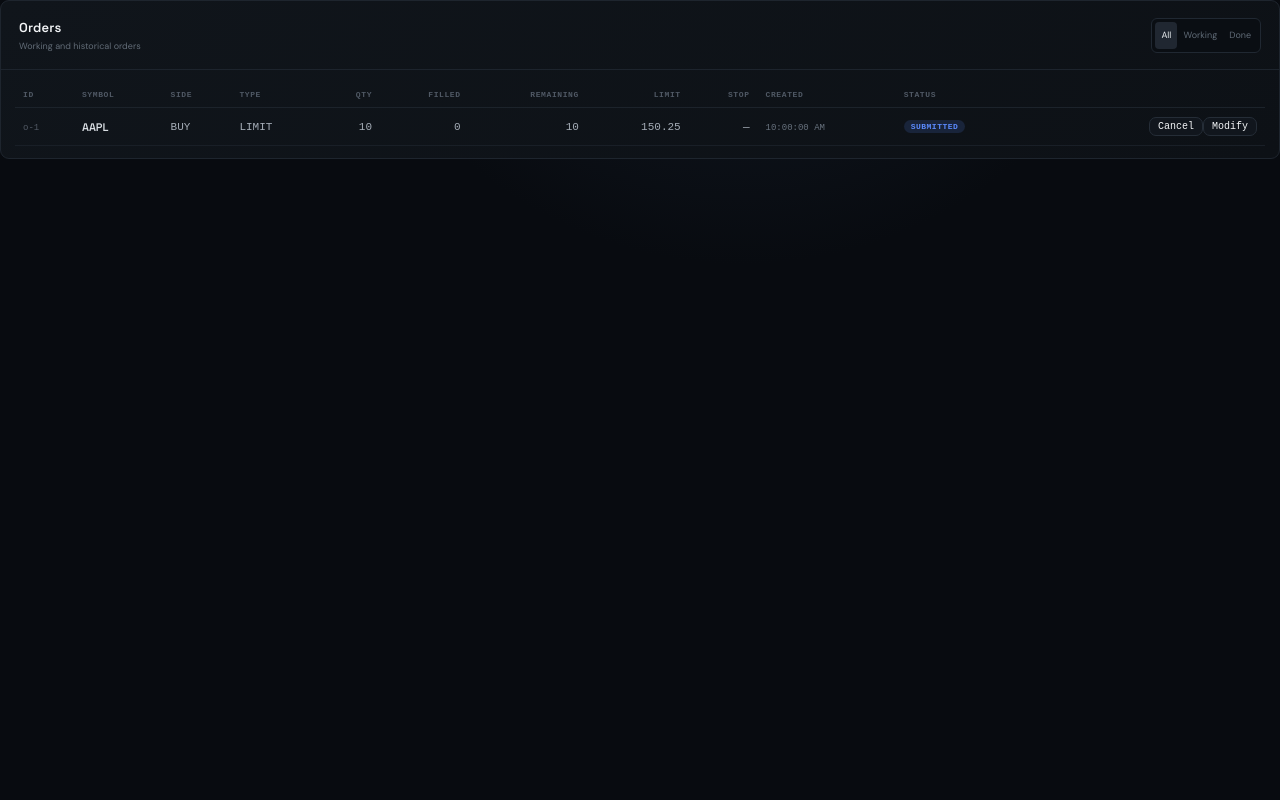
Test case: OrderBlotter › cancel requires confirmation and updates the store on success
Click the button "Cancel" at [1176, 126], box [1149,117,1203,136]
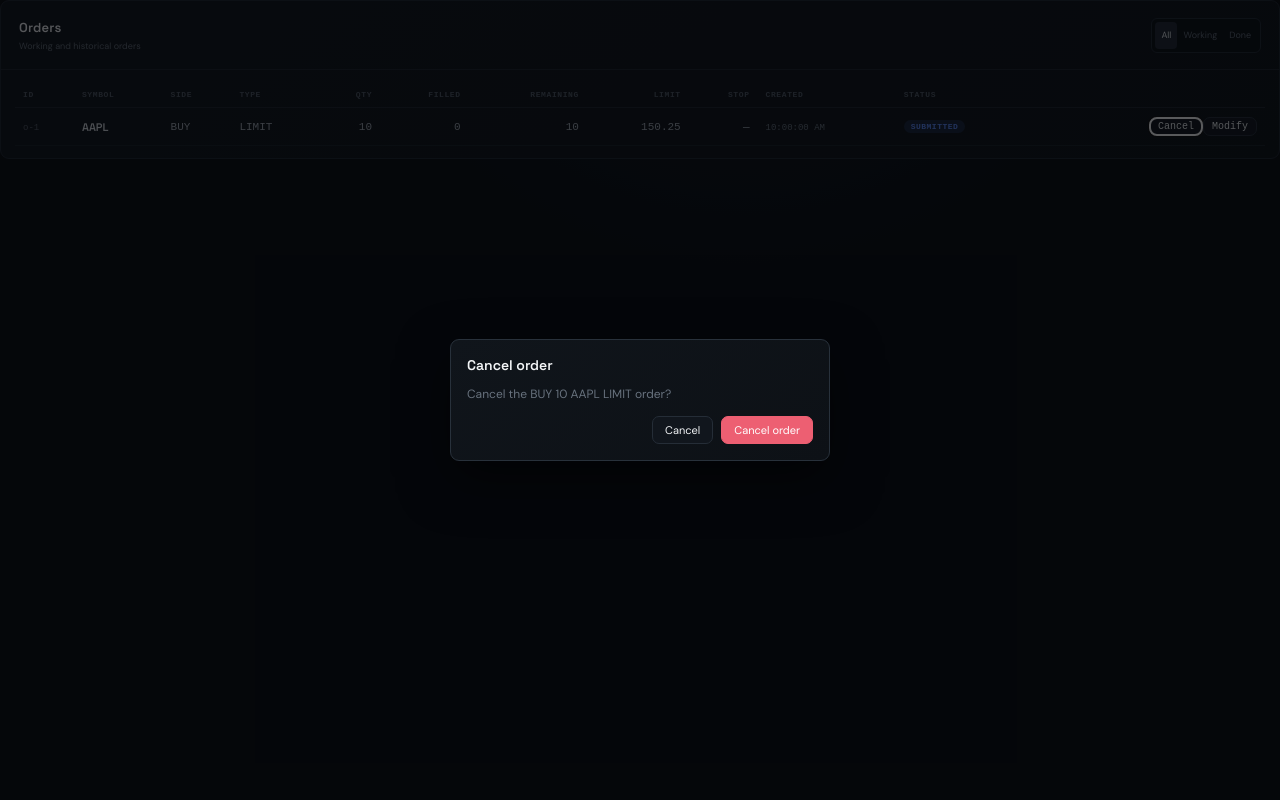
Click the button "Cancel order" at [767, 430], box [721,416,813,444]
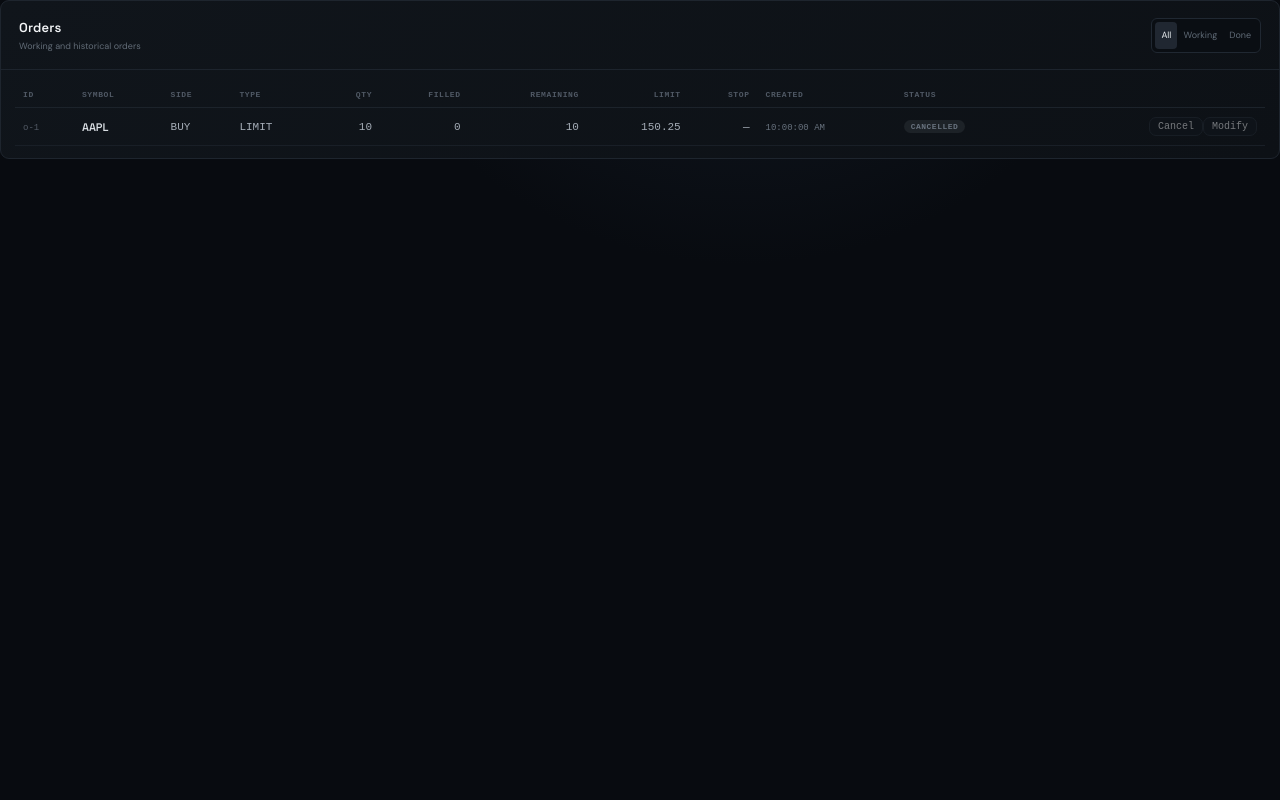
Check: the text "CANCELLED" is shown, box [904,120,965,133]
